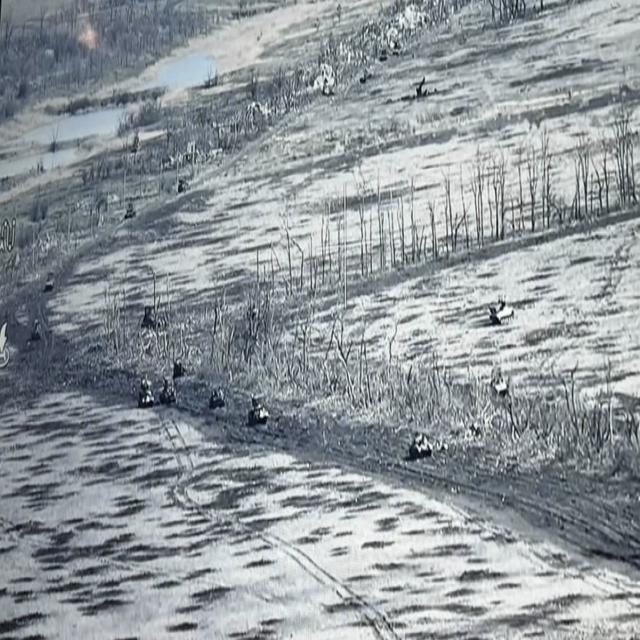vehicle: (490, 296, 514, 326), (247, 394, 268, 426), (160, 374, 177, 408), (411, 432, 433, 458), (141, 305, 163, 328), (492, 367, 508, 397), (138, 378, 154, 408), (211, 386, 227, 408), (416, 73, 429, 100), (176, 175, 192, 196), (124, 196, 137, 220), (321, 75, 335, 95), (45, 265, 55, 292), (359, 66, 372, 84), (173, 356, 184, 376), (32, 318, 42, 340), (393, 38, 403, 57), (380, 46, 389, 63)
